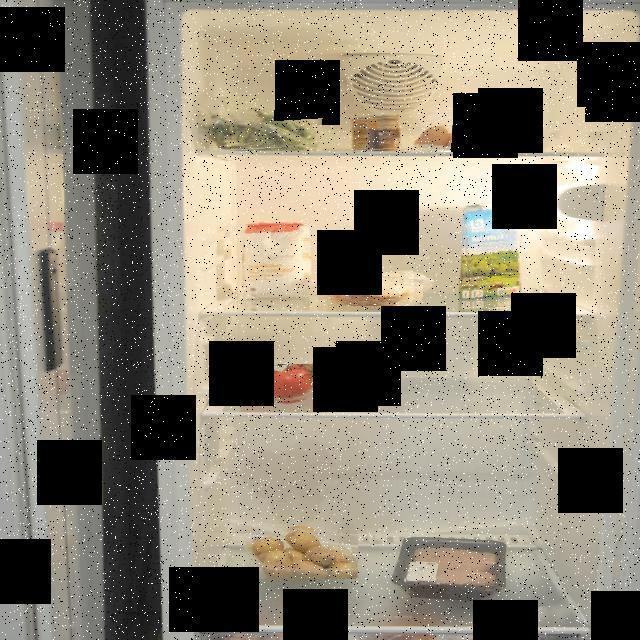bread: (327, 270, 423, 306)
chicken_breast: (403, 546, 503, 594)
corn: (348, 114, 402, 152)
egg: (414, 122, 482, 152)
green_beans: (209, 108, 324, 152)
milk: (460, 200, 522, 310)
potato: (245, 523, 358, 579)
sugar: (242, 220, 310, 304)
tomato: (238, 364, 333, 406)
